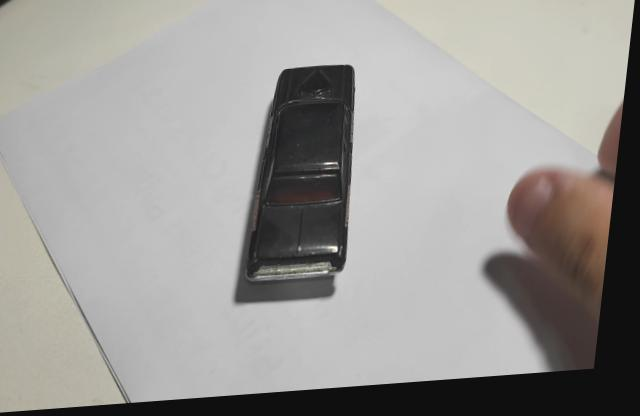01_FORD: (250, 70, 358, 288)
